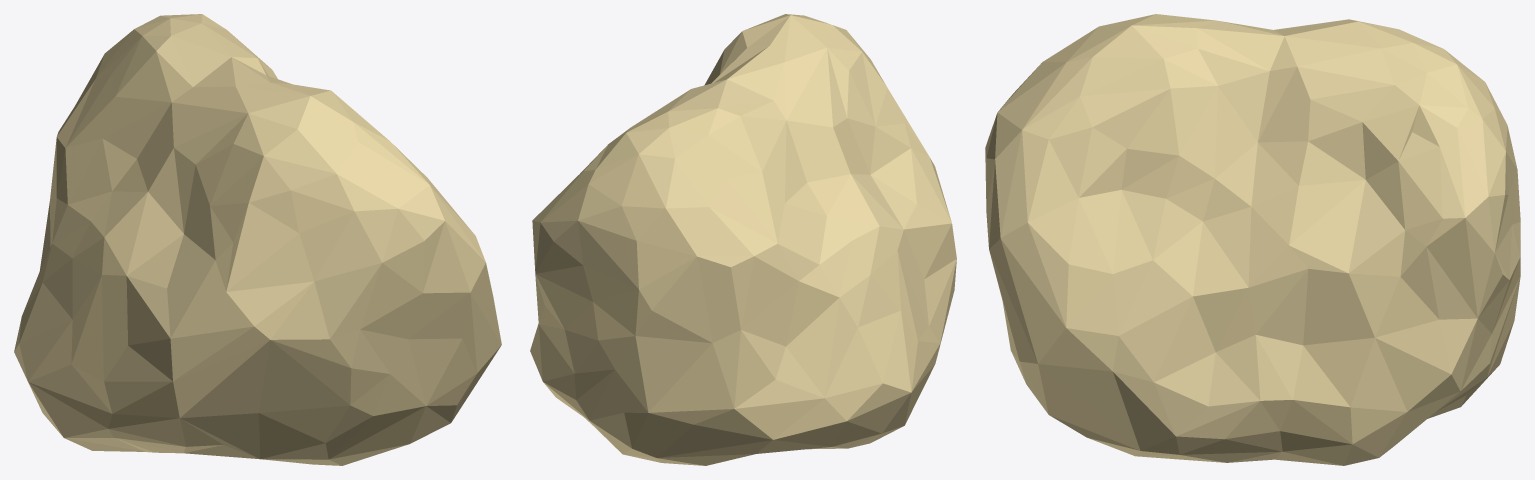
File: Asteroid (27).fbx
3 views of the same model, side by side, from view 1: azimuth 30°, elevation 25°; view 2: azimuth 150°, elevation 25°; view 3: azimuth 270°, elevation 25° (orthographic). The views are drawn at different scales.
Parts seen in each view (by area): view 1: Asteroid99; view 2: Asteroid99; view 3: Asteroid99.
Part boxes in pixels (bbox=[...]): Asteroid99: bbox=[14, 14, 501, 465]; Asteroid99: bbox=[530, 14, 956, 465]; Asteroid99: bbox=[985, 14, 1520, 465].
Size of the model in its own units: 175 by 176 by 215.
